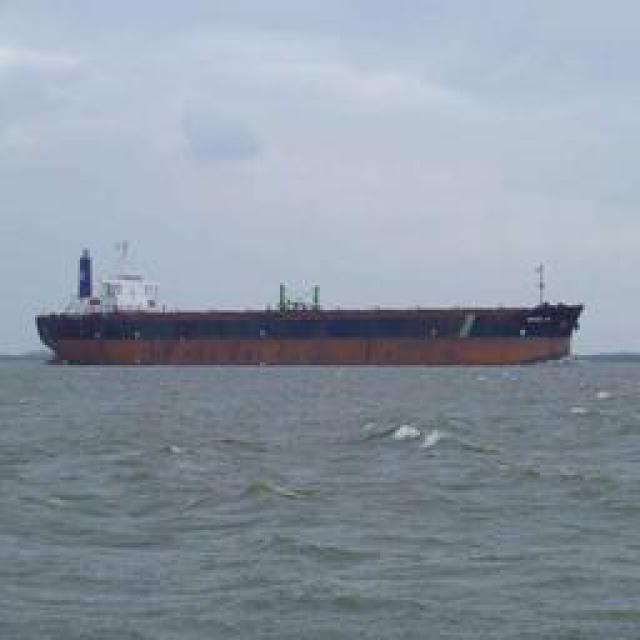Ship: (30, 300, 585, 363)
